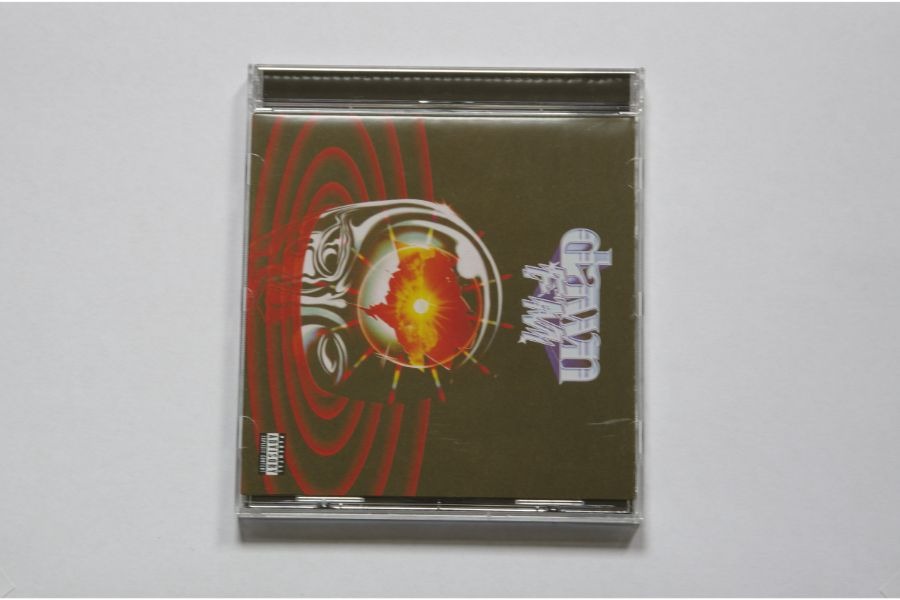album: (235, 55, 648, 527)
